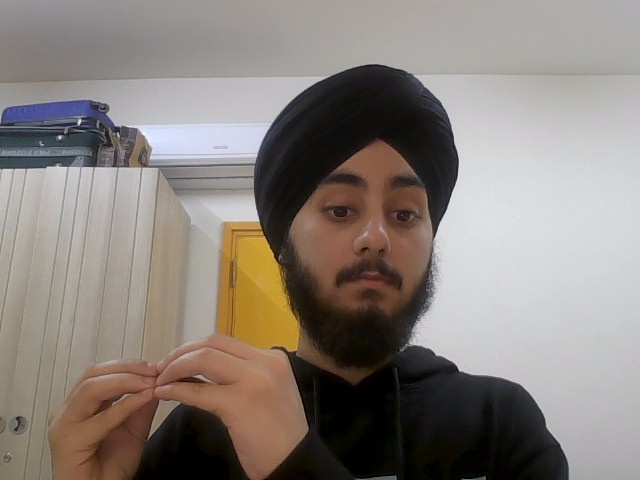More: (46, 327, 314, 480)
